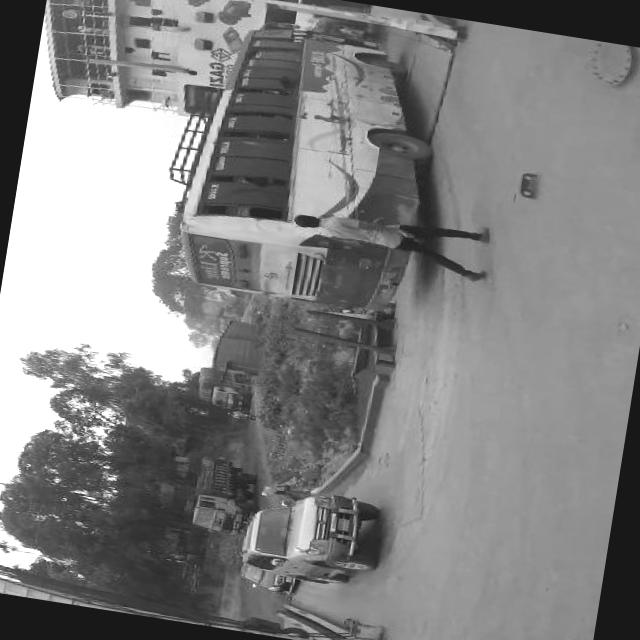bus: (158, 7, 448, 314)
car: (236, 479, 383, 586), (235, 566, 297, 594)
motorcycle: (226, 408, 255, 418)
truck: (187, 454, 259, 534), (192, 364, 252, 408), (212, 302, 242, 332)
